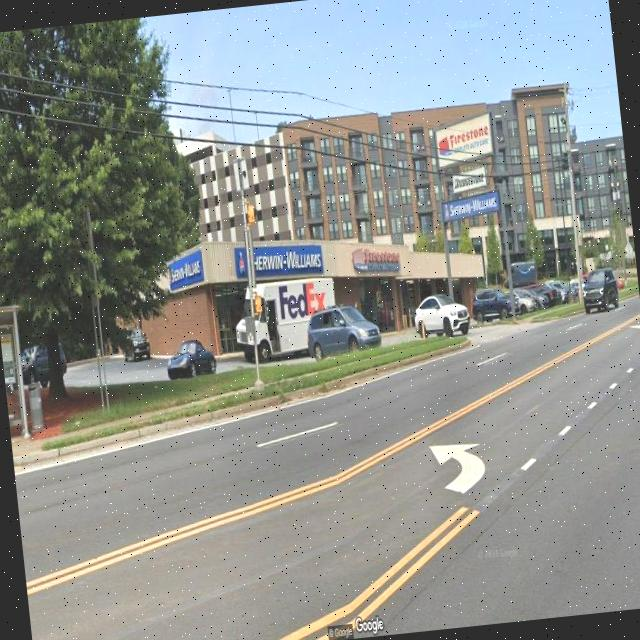seating: (8, 410, 16, 436)
shelter: (0, 307, 30, 442)
trash_can: (27, 386, 46, 432)
